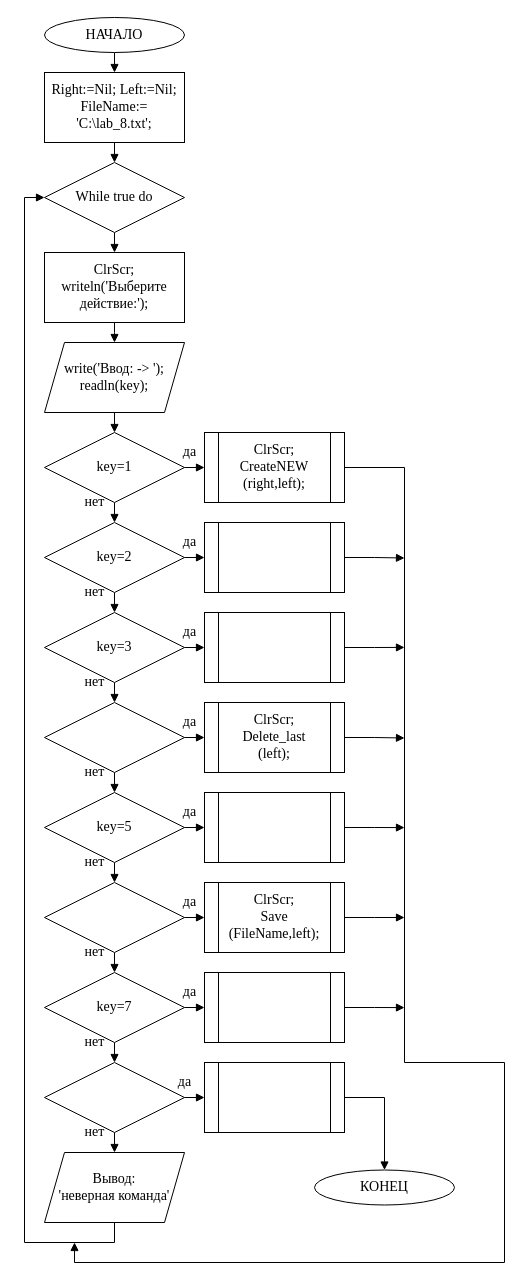
The diagram is 530 pixels wide and 1288 high, and some of its shapes have lost their labels. The shapes that lost their labels are listed below. From the top down, each one's box as (x1, y1, x2, y2) in pixels, then its label:
(204, 522, 344, 592): ClrScr; Dobav (left,right);
(204, 612, 344, 682): ClrScr; Delete_1 (left,right);
(44, 702, 184, 772): key=4
(204, 792, 344, 862): ClrScr; Show_tabl (left);
(44, 882, 184, 952): key=6
(204, 972, 344, 1042): ClrScr; download (FileName,left);
(44, 1062, 184, 1132): key=8
(204, 1062, 344, 1132): Exit
